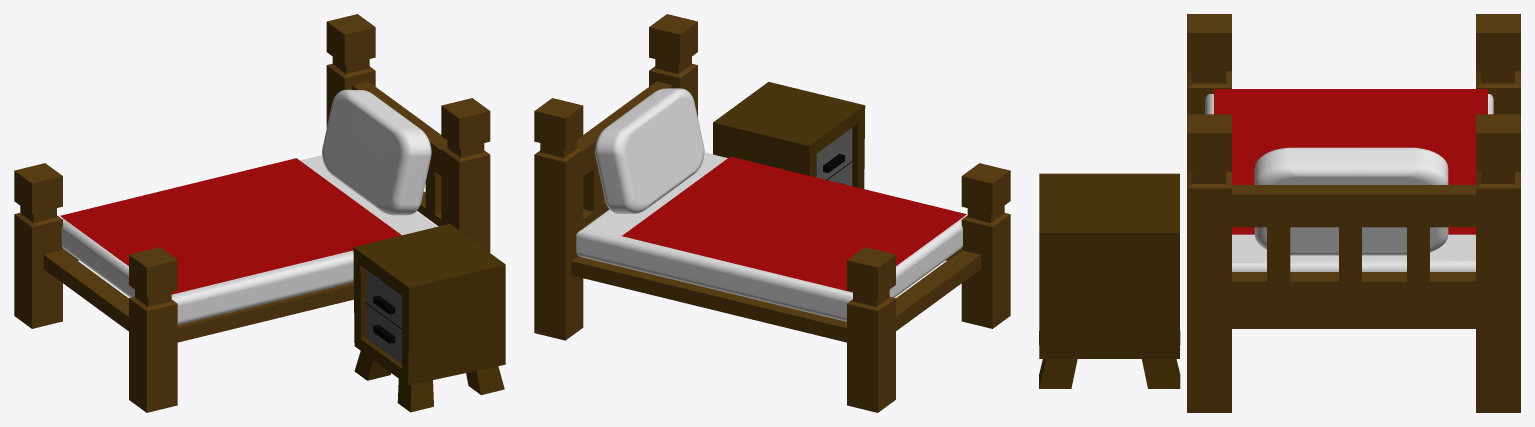
File: Bed.fbx
3 views of the same model, side by side, from view 1: azimuth 30°, elevation 25°; view 2: azimuth 150°, elevation 25°; view 3: azimuth 270°, elevation 25° (orthographic). The views are drawn at different scales.
Visible parts, largest first — view 1: BedFrame, Blanket, Nightstand, Pillow, Matress; view 2: BedFrame, Blanket, Matress, Nightstand, Pillow; view 3: BedFrame, Nightstand, Blanket, Pillow, Matress.
Boxes of the visible parts, x1=… form: BedFrame: x1=14, y1=14, x2=490, y2=412; Blanket: x1=60, y1=158, x2=401, y2=294; Nightstand: x1=353, y1=223, x2=505, y2=412; Pillow: x1=322, y1=89, x2=431, y2=215; Matress: x1=61, y1=155, x2=438, y2=324; BedFrame: x1=534, y1=14, x2=1010, y2=412; Blanket: x1=622, y1=156, x2=966, y2=292; Matress: x1=576, y1=152, x2=965, y2=321; Nightstand: x1=713, y1=82, x2=865, y2=188; Pillow: x1=595, y1=88, x2=704, y2=213; BedFrame: x1=1187, y1=14, x2=1520, y2=412; Nightstand: x1=1039, y1=173, x2=1180, y2=388; Blanket: x1=1214, y1=89, x2=1487, y2=234; Pillow: x1=1254, y1=147, x2=1448, y2=255; Matress: x1=1205, y1=94, x2=1493, y2=271.
Size of the model in its own units: 110 by 68.86 by 106.
